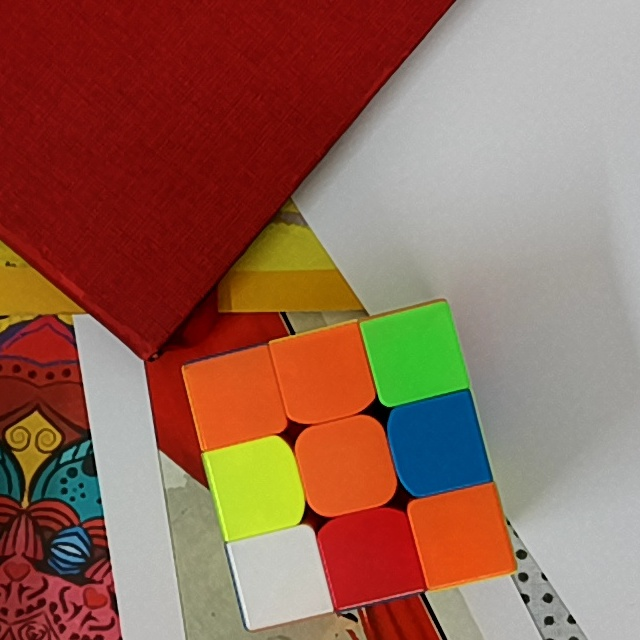tile: (309, 428, 382, 501), (337, 518, 408, 591), (404, 408, 475, 480), (427, 501, 500, 569), (221, 450, 292, 519), (198, 366, 271, 433), (245, 542, 315, 611), (290, 340, 361, 408), (381, 319, 449, 389)
